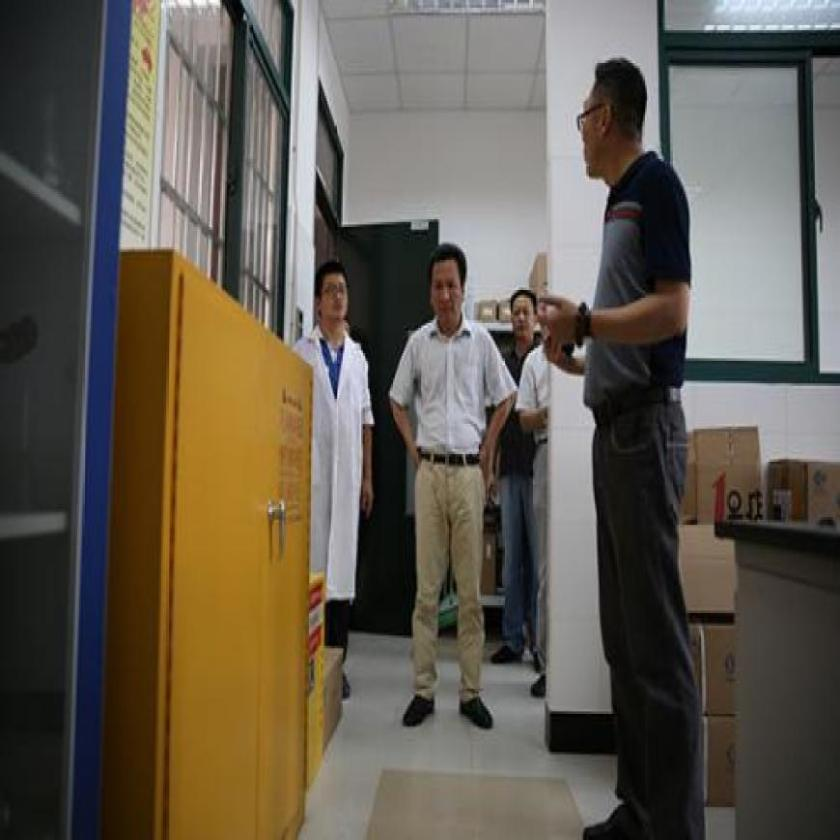Sin_casco: (571, 51, 653, 204), (429, 236, 471, 336), (314, 259, 353, 329), (508, 286, 544, 351)
